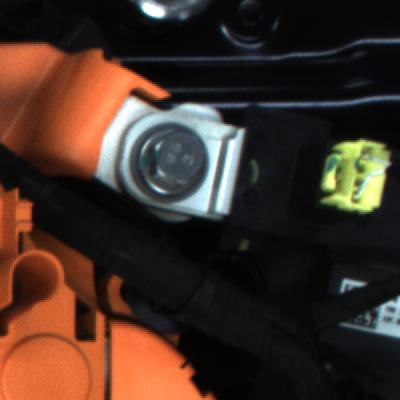nut_b: (134, 119, 222, 207)
